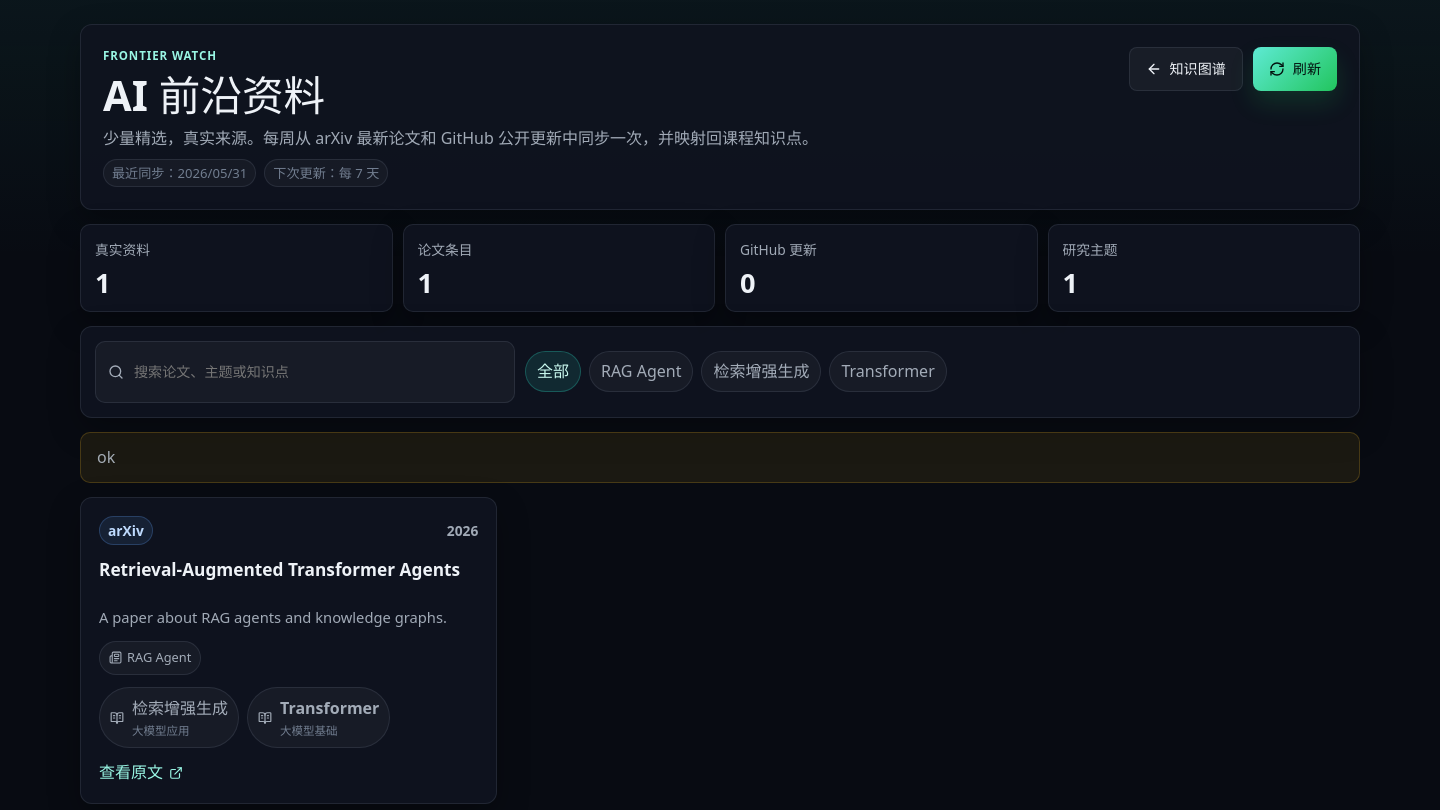
Scenario: FrontierLibraryView › filters by search query
The width and height of the screenshot is (1440, 810).
Type "not-found" into the search field with placeholder "搜索论文、主题或知识点" at (318, 372), box [134, 352, 502, 392]
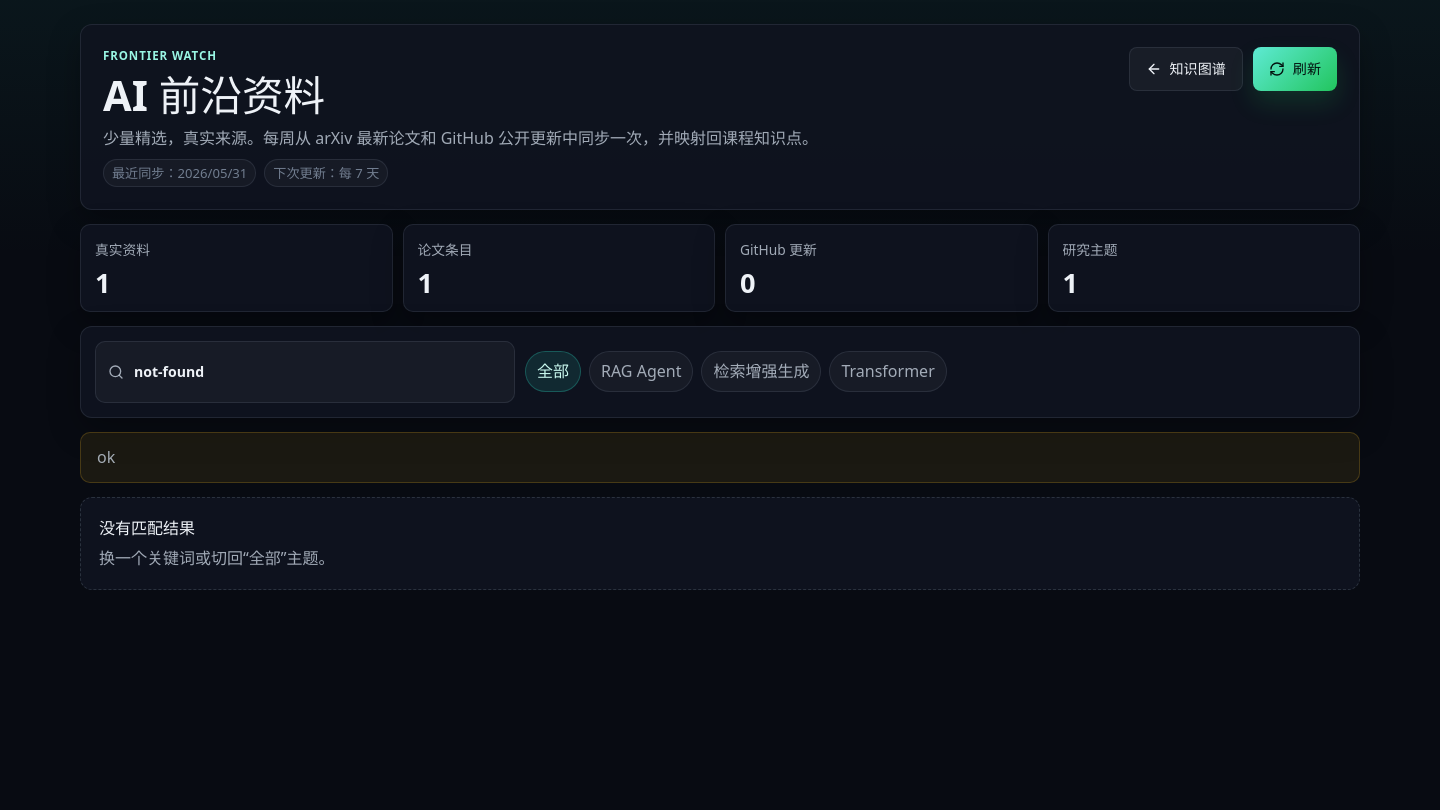
Now the text "Retrieval-Augmented Transformer Agents" is gone
Replace the text in the search field with "knowledge graphs" at (318, 372), box [134, 352, 502, 392]
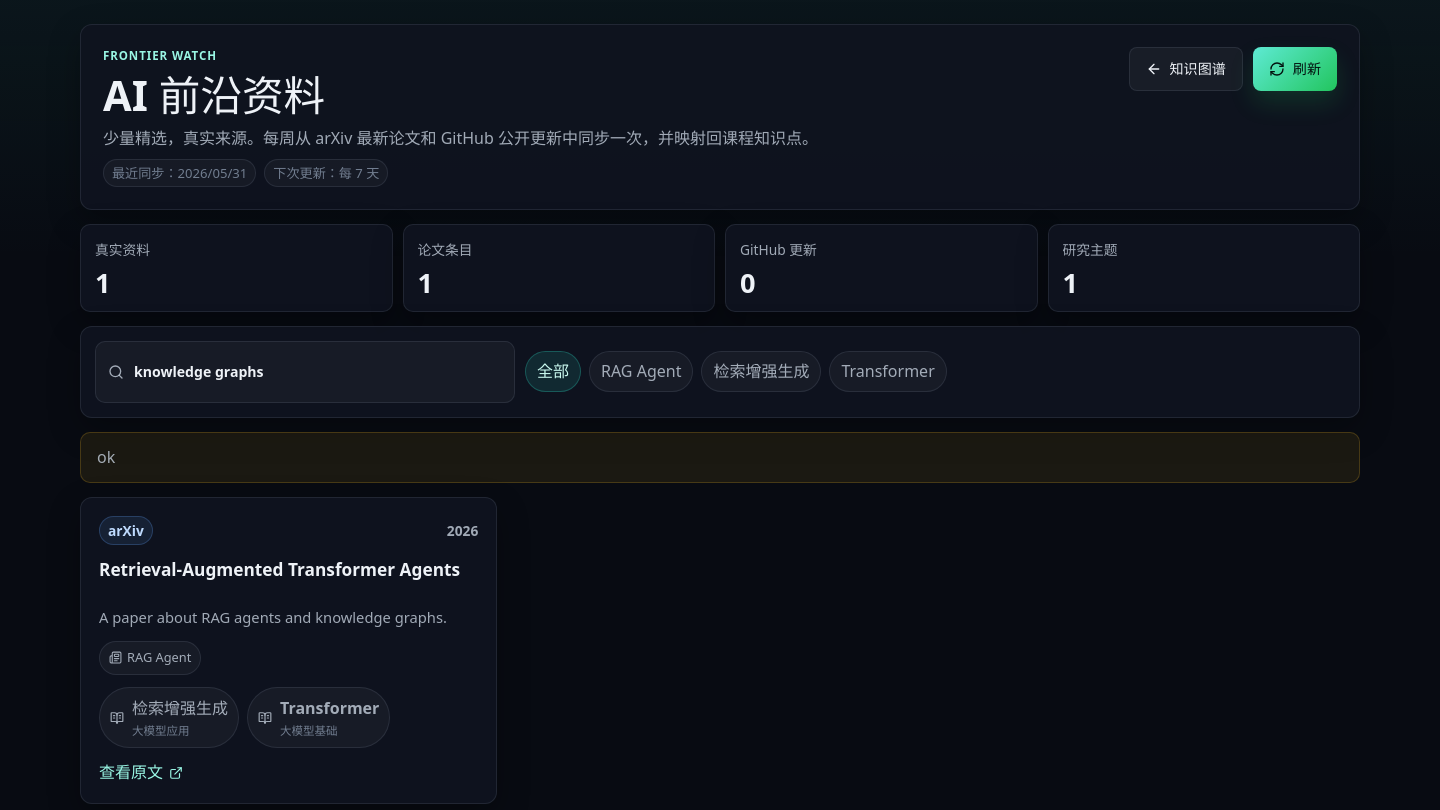
Now the text "Retrieval-Augmented Transformer Agents" is shown, box [99, 557, 478, 582]
